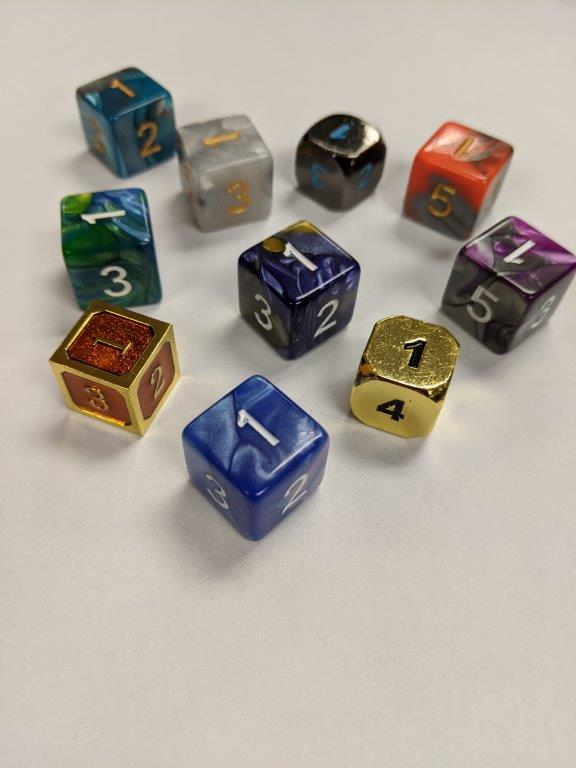d6-1: (183, 374, 333, 542), (45, 299, 180, 437), (441, 215, 576, 351), (238, 217, 361, 357), (349, 313, 458, 445), (402, 120, 513, 236), (61, 189, 163, 313), (175, 111, 274, 232), (75, 66, 175, 181), (296, 109, 389, 213)
